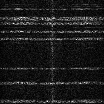wifi: (1, 16, 104, 21), (1, 22, 104, 26), (1, 81, 104, 84), (1, 99, 104, 102), (1, 8, 104, 10), (1, 30, 104, 32), (1, 38, 104, 40), (1, 67, 104, 69)
